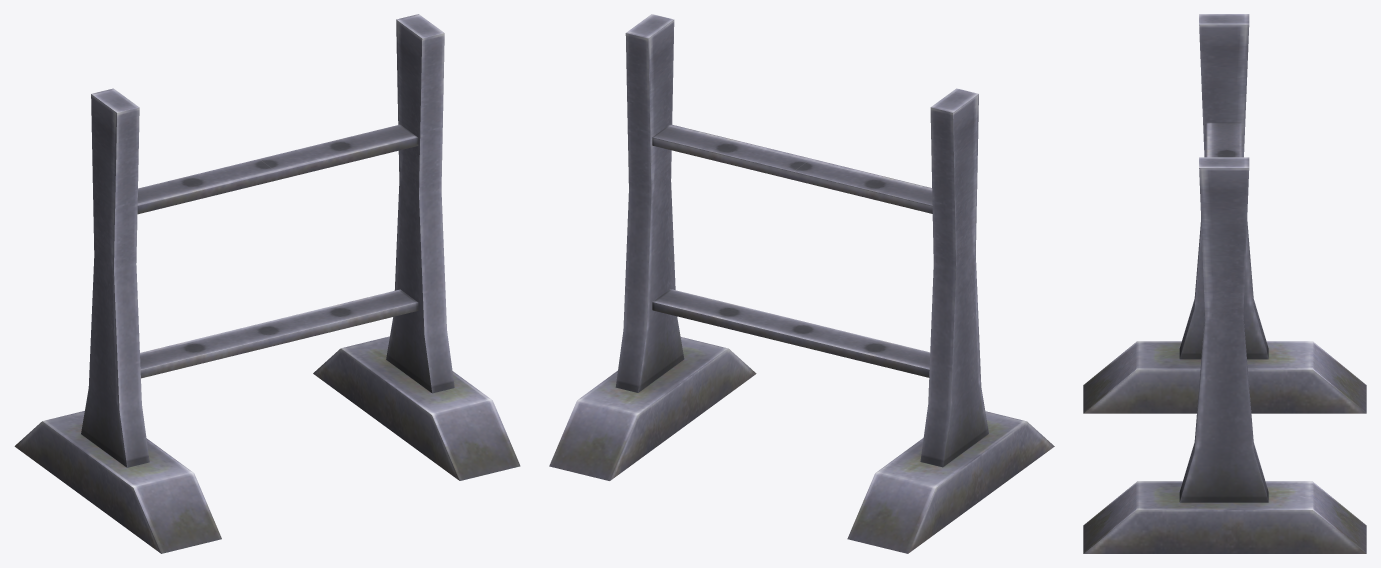
Rendered from WeaponRack01_Maincity_001.FBX.
The picture shows the model from 3 angles, left to right: view 1: azimuth 30°, elevation 25°; view 2: azimuth 150°, elevation 25°; view 3: azimuth 270°, elevation 25°; orthographic projection. The views are drawn at different scales.
Parts seen in each view (by area): view 1: WeaponRack01_Maincity_001; view 2: WeaponRack01_Maincity_001; view 3: WeaponRack01_Maincity_001.
Part boxes in pixels (bbox=[...]): WeaponRack01_Maincity_001: bbox=[14, 14, 520, 553]; WeaponRack01_Maincity_001: bbox=[549, 14, 1054, 553]; WeaponRack01_Maincity_001: bbox=[1083, 14, 1366, 553].
Size of the model in its own units: 70.13 by 73.33 by 49.71.
Materials: 1 (1 with a texture image).
